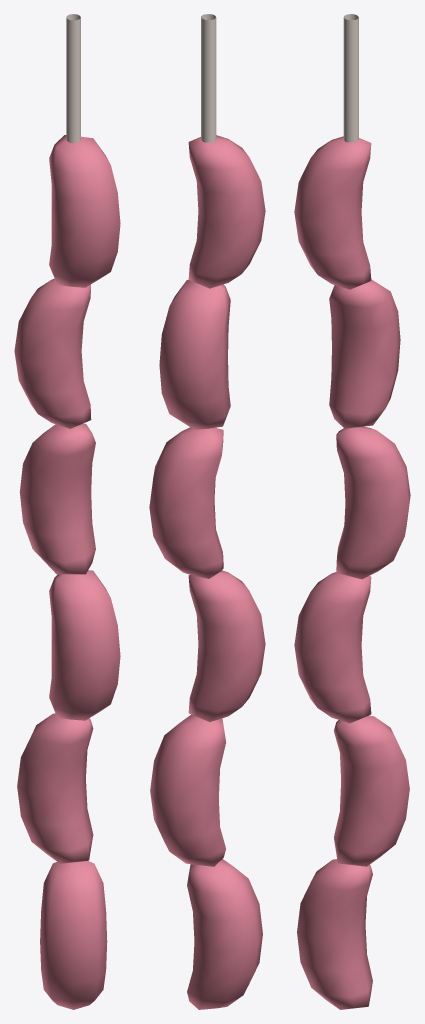
Rendered from Sausages_1.glb.
The picture shows the model from 3 angles, left to right: view 1: azimuth 90°, elevation 25°; view 2: azimuth 150°, elevation 25°; view 3: azimuth 330°, elevation 25°; orthographic projection.
Parts seen in each view (by area): view 1: Sausages_1; view 2: Sausages_1; view 3: Sausages_1.
Part boxes in pixels (x1,y1,x2,y2): Sausages_1: [14, 14, 120, 1009]; Sausages_1: [149, 14, 265, 1009]; Sausages_1: [294, 14, 410, 1009].
Bounding box in the file's own units: 0.1456 × 1.41 × 0.1373.
1 material, 1 textured.
